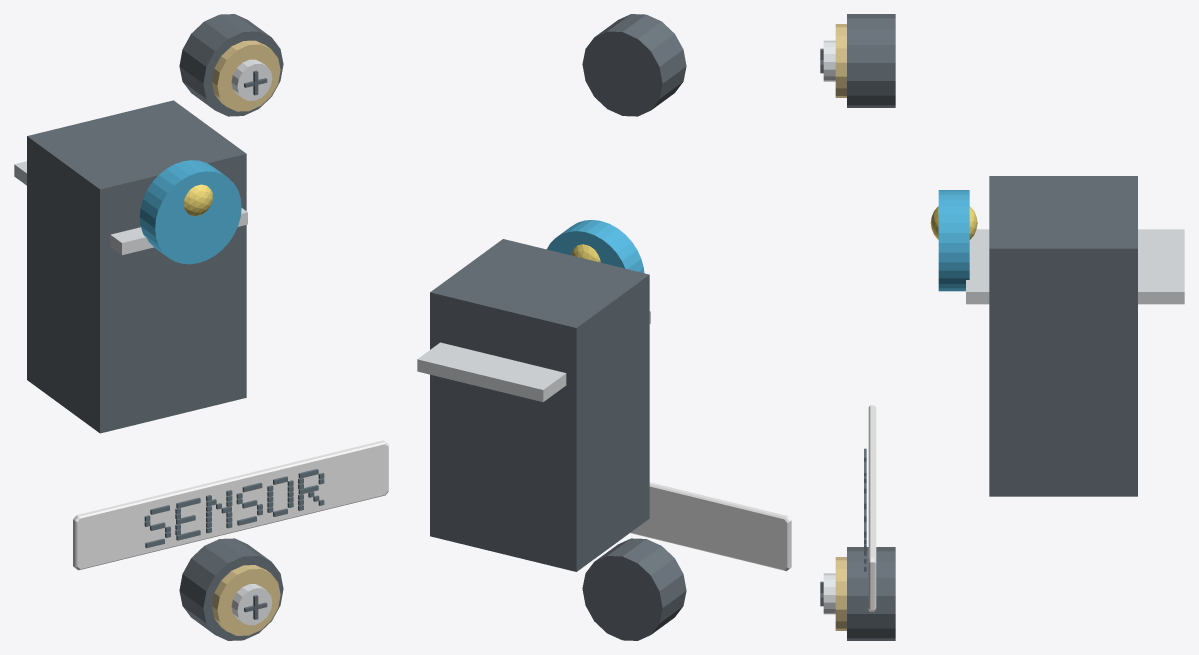
The model's file is sensor.glb.
3 renders of one model, left to right at view 1: azimuth 30°, elevation 25°; view 2: azimuth 150°, elevation 25°; view 3: azimuth 270°, elevation 25°, orthographic.
Visible parts, largest first — view 1: sensor-preview; view 2: sensor-preview; view 3: sensor-preview.
Boxes of the visible parts, x1=… form: sensor-preview: x1=14, y1=14, x2=388, y2=640; sensor-preview: x1=417, y1=14, x2=791, y2=640; sensor-preview: x1=820, y1=14, x2=1184, y2=640.
Bounding box in the file's own units: 1.23 × 2.27 × 1.21.
